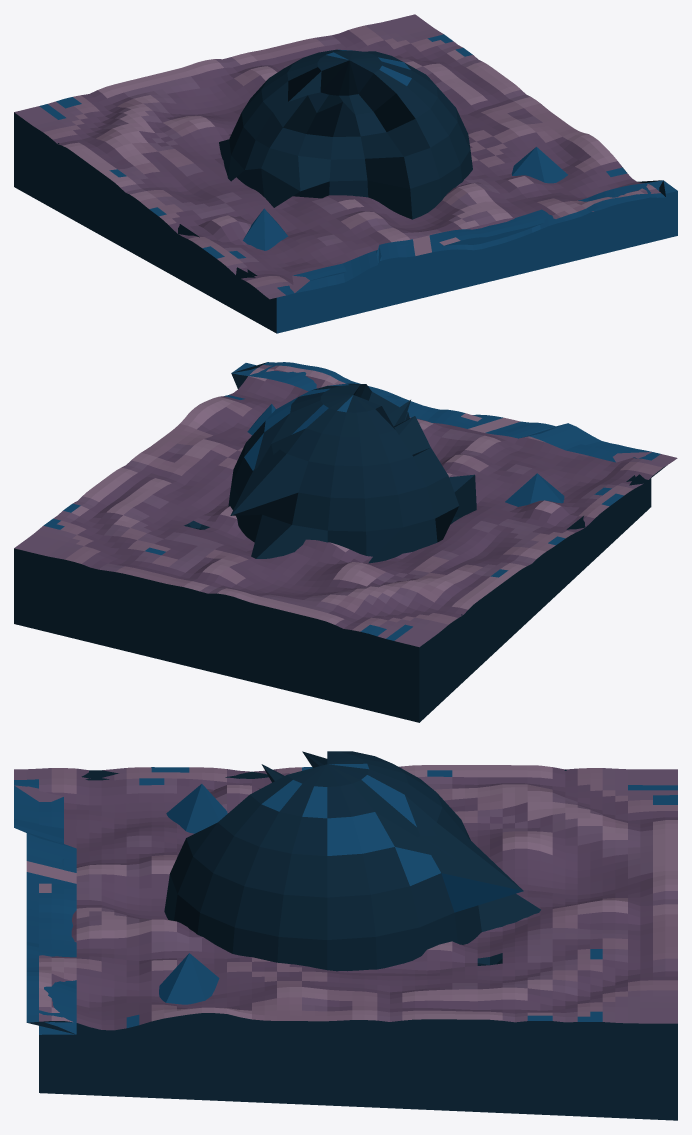
3 renders of one model, top to bottom at view 1: azimuth 30°, elevation 25°; view 2: azimuth 150°, elevation 25°; view 3: azimuth 270°, elevation 25°, orthographic. The views are drawn at different scales.
Parts seen in each view (by area): view 1: shapesz-t149; view 2: shapesz-t149; view 3: shapesz-t149.
Part boxes in pixels (x1,y1,x2,y2): shapesz-t149: (14, 14, 677, 333); shapesz-t149: (14, 362, 677, 722); shapesz-t149: (14, 751, 677, 1120).
Bounding box in the file's own units: 2.08 × 1.08 × 2.21.
